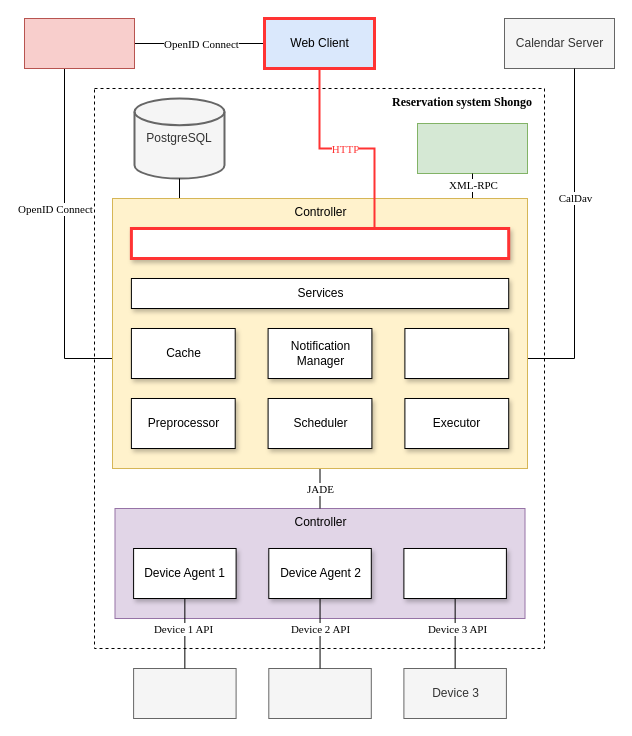
Some shapes in this 632 by 736 pixel diagram are drawn without their labels. Here are the shapes that lost their labels. From the top down, the centre of each, then its label:
At (x=79, y=43): "Auth Server".
At (x=472, y=148): "Cmd-Line Client".
At (x=320, y=244): "REST API".
At (x=457, y=355): "Calendar Manager".
At (x=455, y=575): "Device Agent 3".
At (x=184, y=693): "Device 1".
At (x=319, y=693): "Device 2".
